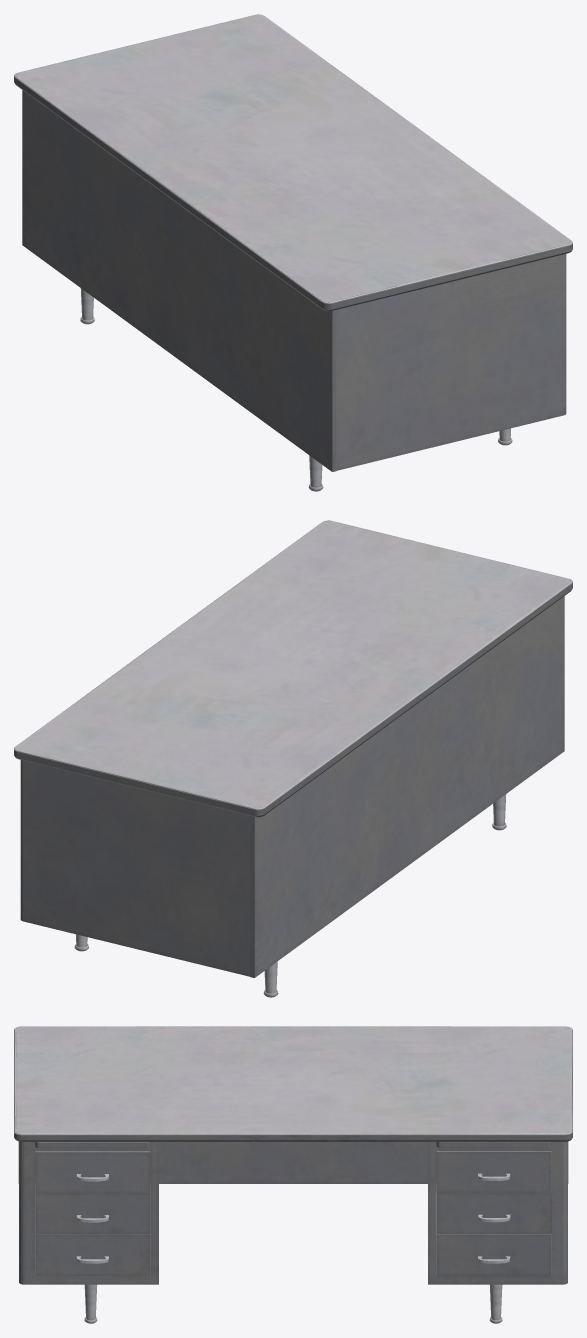
The model's file is desk.glb.
3 renders of one model, top to bottom at view 1: azimuth 30°, elevation 25°; view 2: azimuth 150°, elevation 25°; view 3: azimuth 270°, elevation 25°, orthographic. The views are drawn at different scales.
Visible parts, largest first — view 1: desk; view 2: desk; view 3: desk.
Part boxes in pixels (x1=…): desk: x1=14, y1=14, x2=572, y2=491; desk: x1=14, y1=520, x2=572, y2=997; desk: x1=14, y1=1026, x2=572, y2=1323.
Size of the model in its own units: 0.9472 by 0.7875 by 2.
Materials: 1 (1 with a texture image).
